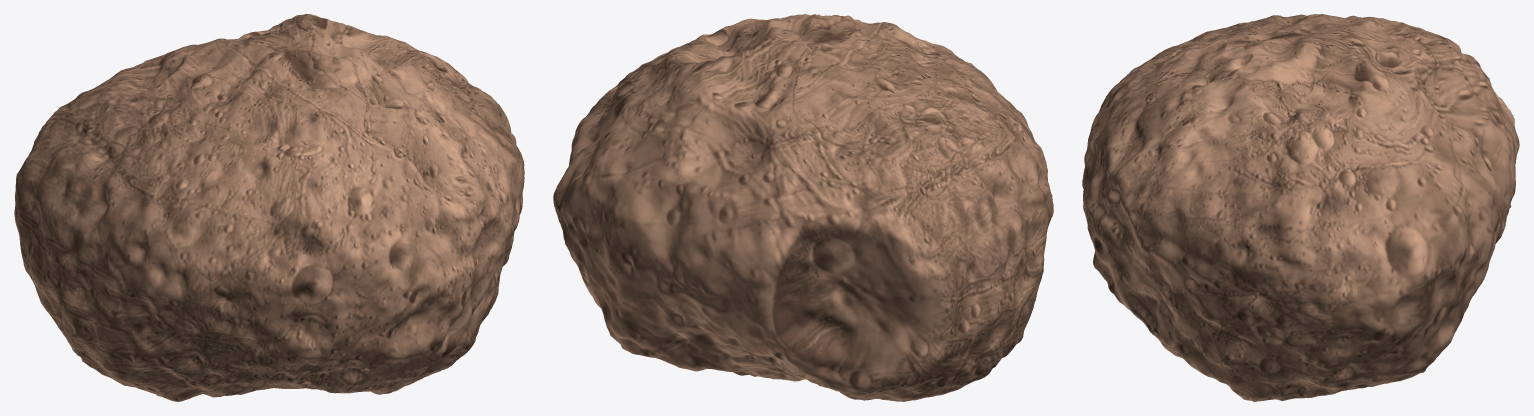
File: phobos.glb
The picture shows the model from 3 angles, left to right: view 1: azimuth 30°, elevation 25°; view 2: azimuth 150°, elevation 25°; view 3: azimuth 270°, elevation 25°; orthographic projection. The views are drawn at different scales.
Visible parts, largest first — view 1: PhobosHiPoly; view 2: PhobosHiPoly; view 3: PhobosHiPoly.
Part boxes in pixels (box(x1,y1,x2,y2)): PhobosHiPoly: box(14, 14, 524, 401); PhobosHiPoly: box(553, 14, 1053, 401); PhobosHiPoly: box(1082, 14, 1519, 401).
Bounding box in the file's own units: 3.4 × 2.49 × 3.05.
Materials: 1 (1 with a texture image).
